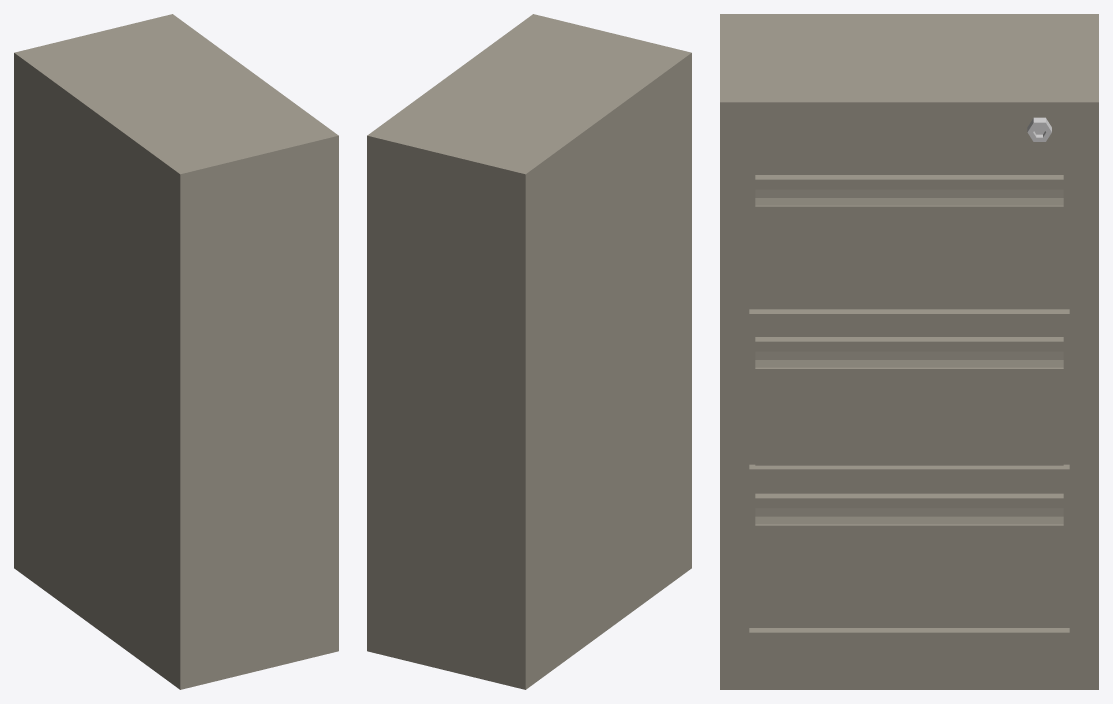
File: SM_Cupboard_06.glb
3 views of the same model, side by side, from view 1: azimuth 30°, elevation 25°; view 2: azimuth 150°, elevation 25°; view 3: azimuth 270°, elevation 25° (orthographic). The views are drawn at different scales.
Parts seen in each view (by area): view 1: SM_Cupboard_06; view 2: SM_Cupboard_06; view 3: SM_Cupboard_06.
Boxes of the visible parts, x1,y1,x2,y2 form: SM_Cupboard_06: [14, 14, 338, 689]; SM_Cupboard_06: [367, 14, 691, 689]; SM_Cupboard_06: [720, 14, 1098, 689].
Bounding box in the file's own units: 0.5112 × 1.5 × 0.878.
Materials: 1 (1 with a texture image).
